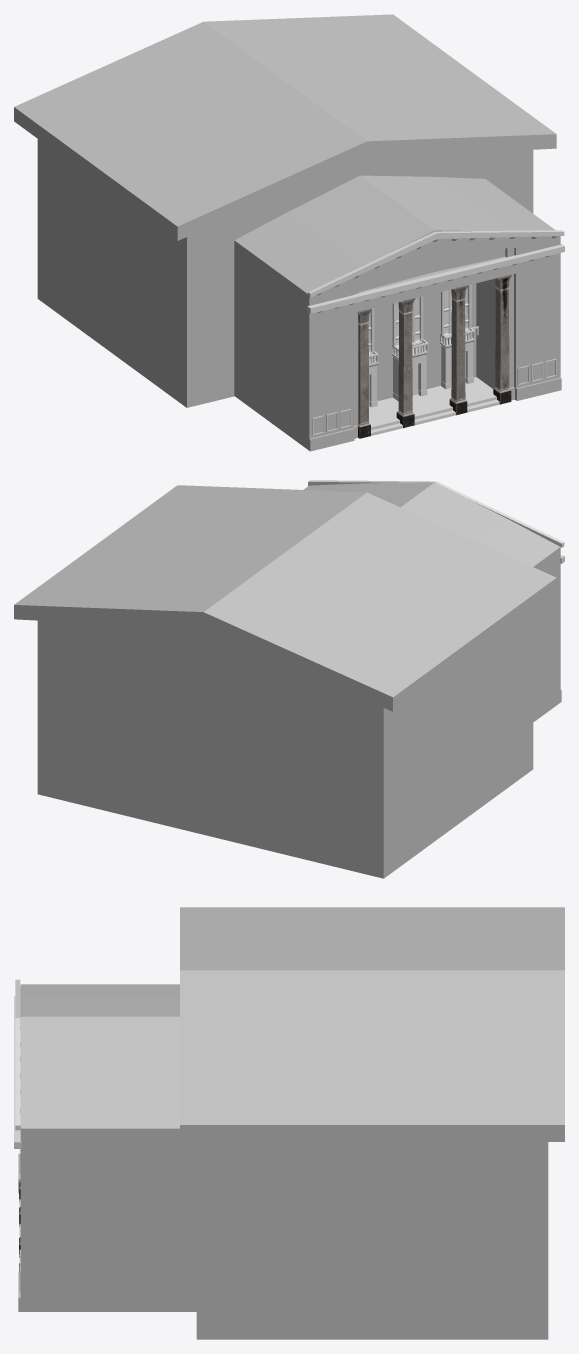
Rendered from tiatur.fbx.
3 renders of one model, top to bottom at view 1: azimuth 30°, elevation 25°; view 2: azimuth 150°, elevation 25°; view 3: azimuth 270°, elevation 25°, orthographic. The views are drawn at different scales.
Parts seen in each view (by area): view 1: Cube.033, Cube.037, Cube.034, Plane.002, Cube.035, Cube.038, Plane.004, Cube.039, Torus.001, Torus.003, Cube.041, Cube.036; view 2: Cube.033, Cube.037, Cube.039; view 3: Cube.033, Cube.037, Cube.039.
Part boxes in pixels (x1,y1,x2,y2): Cube.033: (14, 14, 556, 407); Cube.037: (234, 175, 561, 451); Cube.034: (357, 274, 512, 438); Plane.002: (369, 278, 495, 400); Cube.035: (369, 377, 499, 435); Cube.038: (307, 244, 564, 313); Plane.004: (369, 335, 475, 407); Cube.039: (308, 230, 564, 297); Torus.001: (368, 284, 471, 355); Torus.003: (368, 286, 468, 353); Cube.041: (312, 358, 556, 435); Cube.036: (369, 326, 478, 364); Cube.033: (14, 485, 556, 878); Cube.037: (303, 482, 561, 722); Cube.039: (308, 480, 564, 547); Cube.033: (180, 907, 564, 1339); Cube.037: (18, 984, 196, 1311); Cube.039: (15, 979, 20, 1130).
Bounding box in the file's own units: 4362 × 2524 × 4667.
